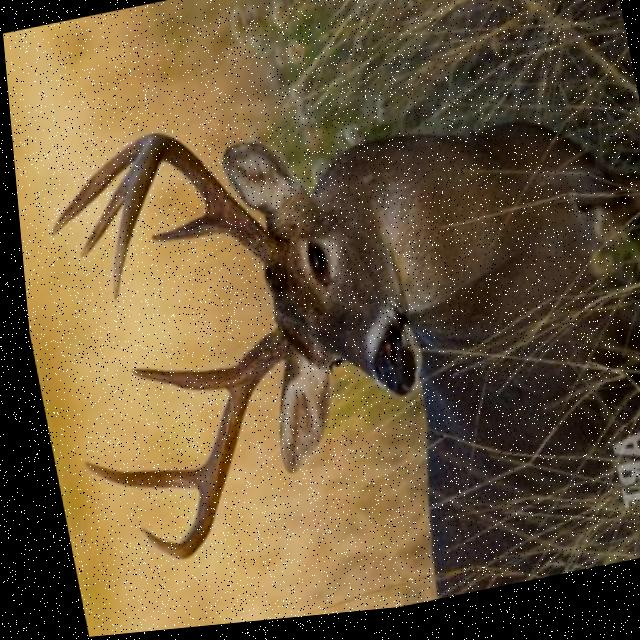L-F: (127, 332, 279, 563)
L-G1: (121, 367, 231, 396)
L-G2: (74, 459, 195, 491)
R-F: (105, 134, 281, 302)
R-G1: (145, 206, 226, 244)
R-G3: (42, 136, 144, 237)
